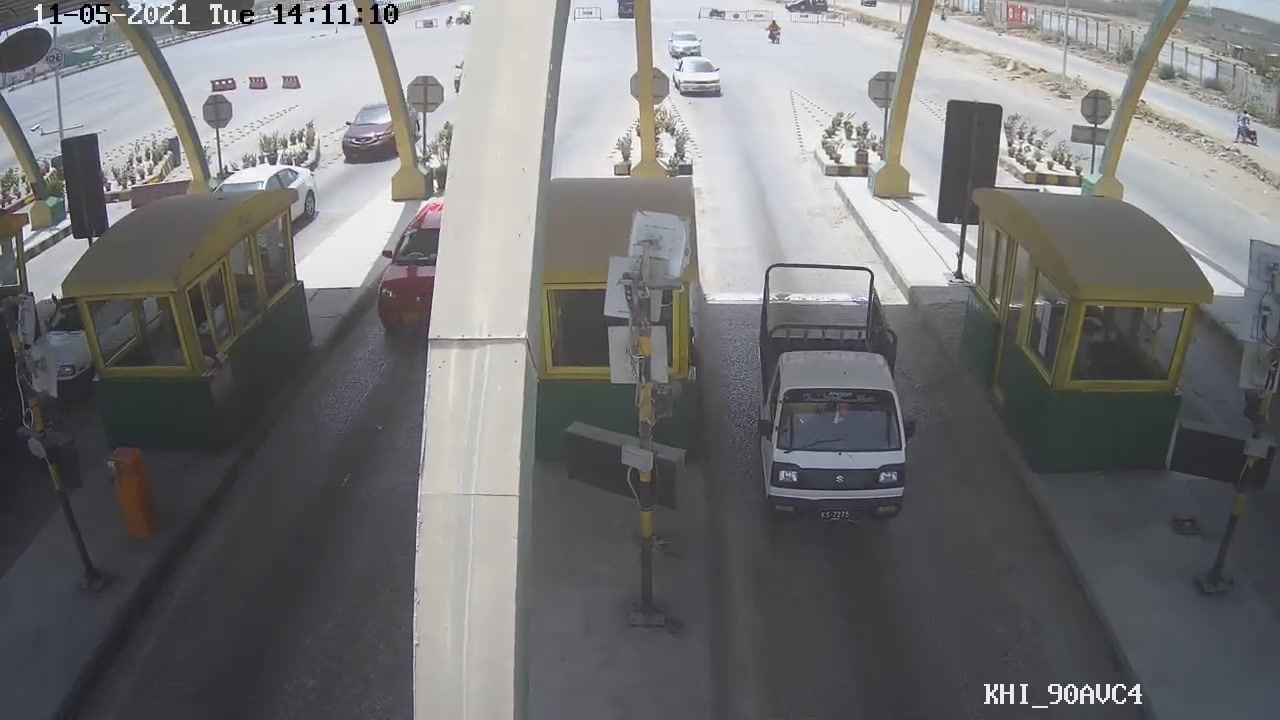F1: (743, 259, 914, 544)
